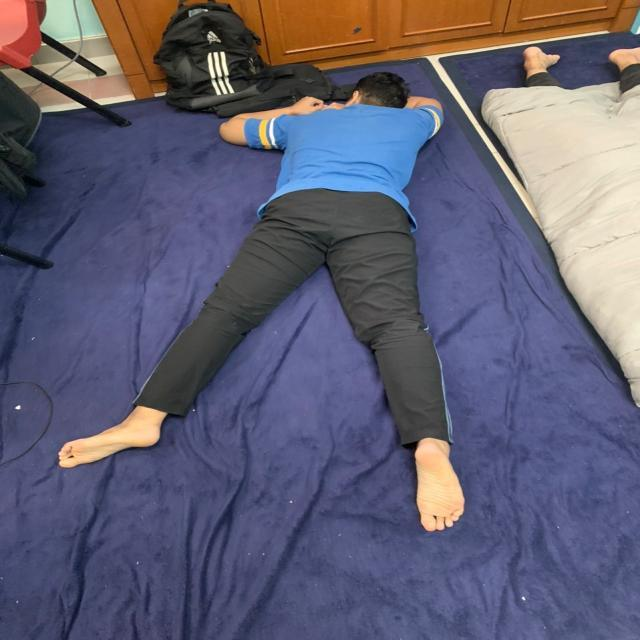fall: (54, 72, 473, 530)
